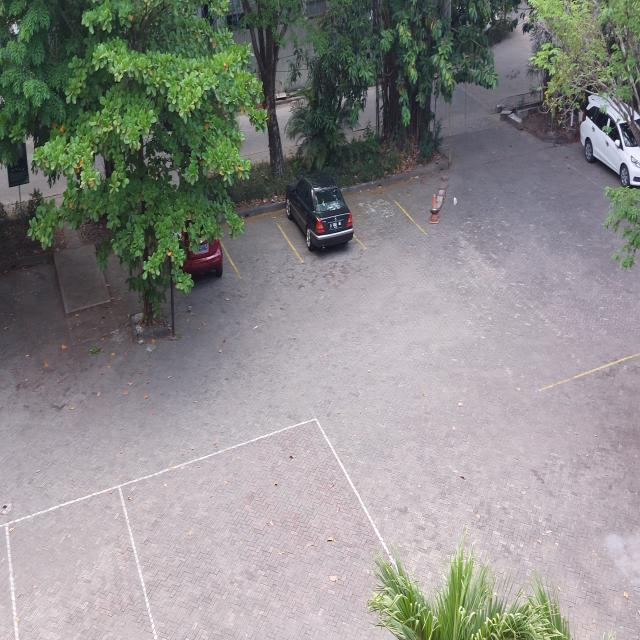empty: (213, 211, 302, 276), (342, 185, 426, 249)
occupied: (270, 172, 365, 262)
